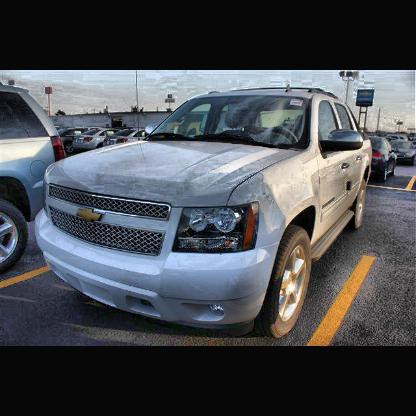Chevrolet Avalanche Crew Cab 2012: (35, 87, 374, 341)
